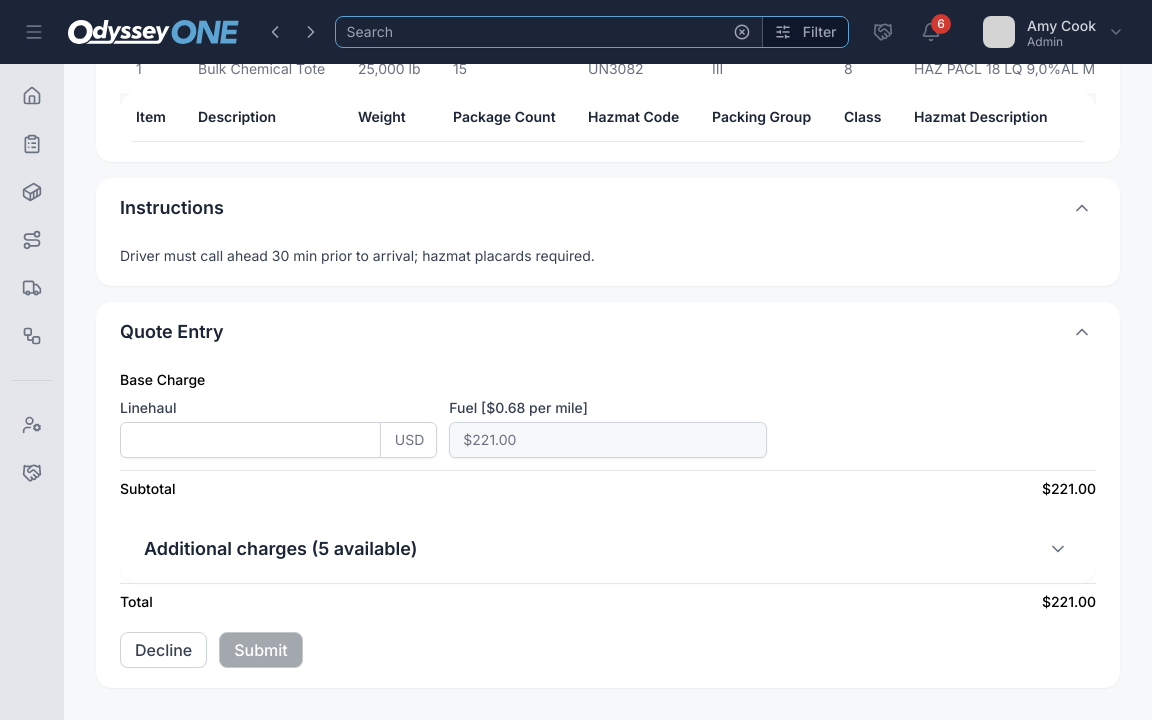
Test: SpotBidDetailRoute › additional charges are collapsed by default and offer only the configured list
(page scrolled)
Click the button "Additional charges (5 available)": (281, 548) [144, 535, 1072, 563]
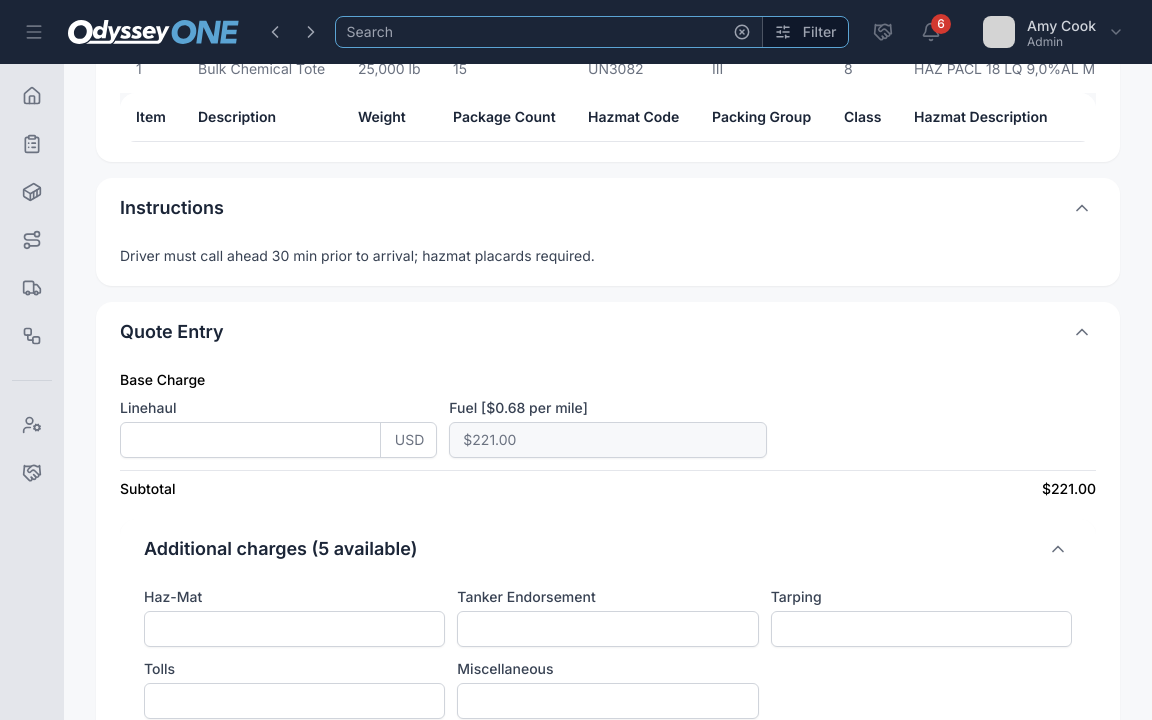
Expected: the button "Additional charges (5 available)" is expanded, [144, 535, 1072, 563]
